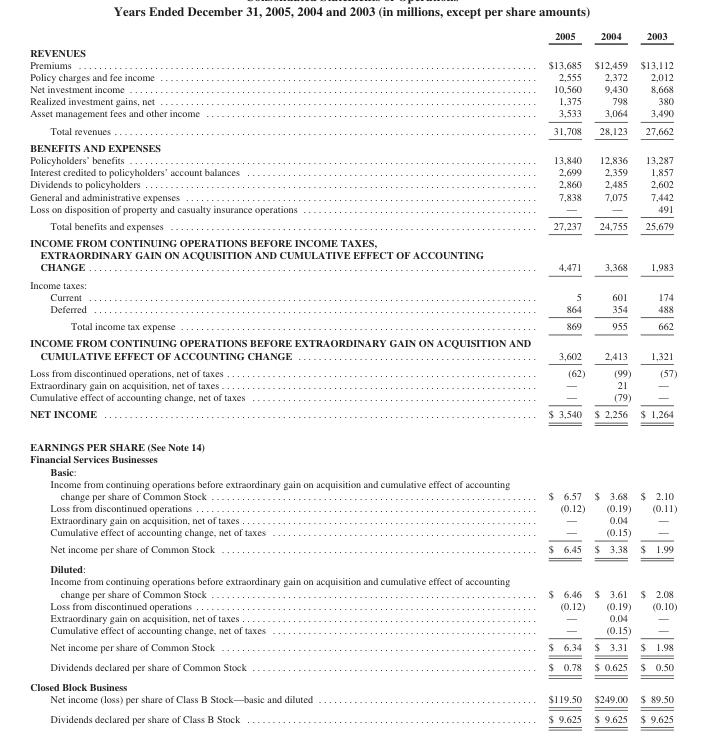table: (29, 29, 676, 723)
table column: (29, 29, 538, 723), (538, 29, 589, 723), (589, 29, 635, 723), (635, 29, 676, 723)
table column header: (29, 29, 676, 43)
table projected row header: (29, 430, 676, 452), (29, 558, 676, 574), (29, 676, 676, 692), (29, 43, 676, 58), (29, 138, 676, 153), (29, 275, 676, 290), (29, 464, 676, 477), (29, 452, 676, 464)
table row: (29, 233, 676, 275), (29, 334, 676, 363), (29, 405, 676, 430), (29, 574, 676, 599), (29, 477, 676, 501), (29, 430, 676, 452), (29, 656, 676, 676), (29, 540, 676, 558), (29, 638, 676, 656), (29, 121, 676, 138), (29, 216, 676, 233), (29, 317, 676, 334), (29, 558, 676, 574), (29, 676, 676, 692), (29, 692, 676, 708), (29, 43, 676, 58), (29, 106, 676, 121), (29, 138, 676, 153), (29, 275, 676, 290), (29, 302, 676, 317), (29, 363, 676, 378), (29, 390, 676, 405), (29, 525, 676, 540), (29, 623, 676, 638), (29, 708, 676, 723), (29, 29, 676, 43), (29, 202, 676, 216), (29, 189, 676, 202), (29, 464, 676, 477), (29, 58, 676, 70), (29, 70, 676, 82), (29, 82, 676, 94), (29, 94, 676, 106), (29, 153, 676, 165), (29, 165, 676, 177), (29, 177, 676, 189), (29, 290, 676, 302), (29, 378, 676, 390), (29, 452, 676, 464), (29, 501, 676, 513), (29, 513, 676, 525), (29, 599, 676, 611), (29, 611, 676, 623)
